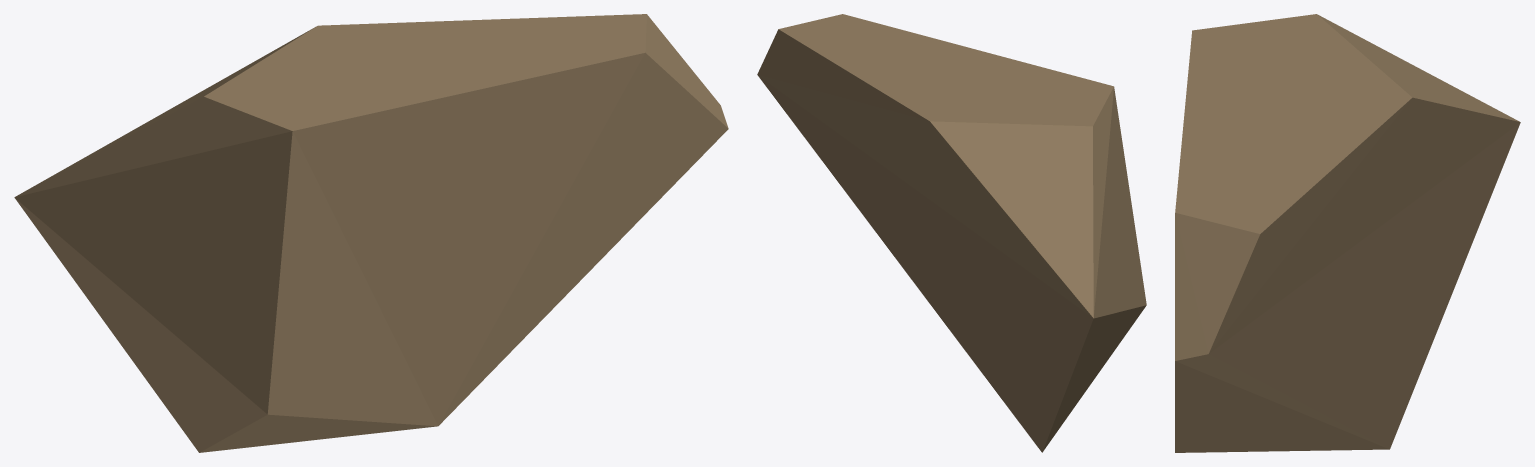
Rendered from Rock17.fbx.
3 views of the same model, side by side, from view 1: azimuth 30°, elevation 25°; view 2: azimuth 150°, elevation 25°; view 3: azimuth 270°, elevation 25° (orthographic). The views are drawn at different scales.
Parts seen in each view (by area): view 1: Rock17; view 2: Rock17; view 3: Rock17.
Part boxes in pixels (<box>): Rock17: <box>14,14,728,452</box>; Rock17: <box>757,14,1146,452</box>; Rock17: <box>1175,14,1520,452</box>.
Size of the model in its own units: 8.59 by 5.67 by 4.23.
